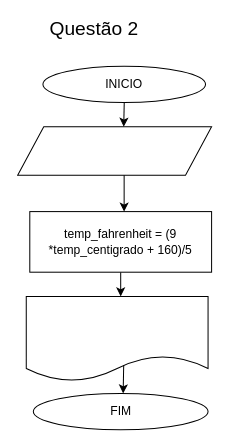
The diagram is 229 pixels wide and 447 high, and some of its shapes have lost their labels. Each missing label, with the centre of its shape:
temp_centigrado , temp_fahrenheit: the point at 114,150
temp_fahrenheit: the point at 116,338
